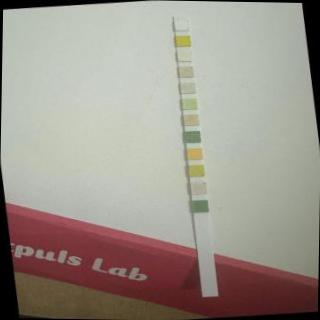mark: (192, 199, 208, 213), (187, 165, 205, 176), (180, 98, 198, 109), (187, 146, 201, 160), (184, 130, 200, 142), (178, 82, 194, 94), (177, 50, 193, 62), (178, 66, 193, 78), (182, 114, 198, 125), (176, 34, 190, 46), (190, 181, 205, 192), (174, 20, 189, 31)
